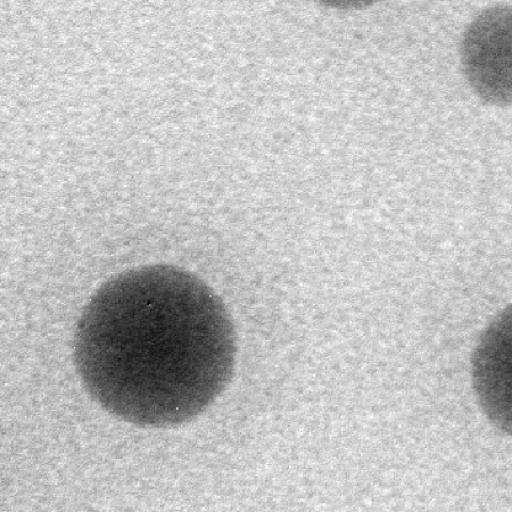Nanoparticles: (70, 262, 241, 428), (471, 300, 512, 440), (461, 3, 512, 105)
